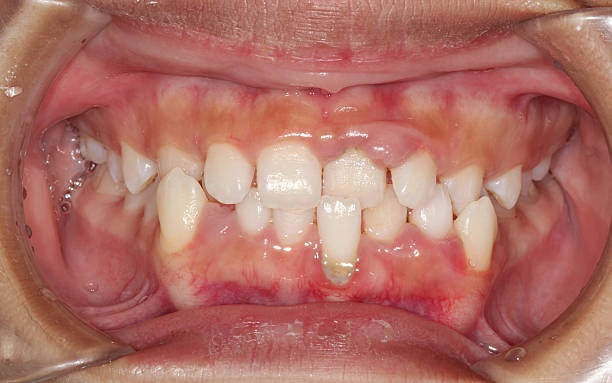Gingivitis: (306, 275, 460, 319), (197, 268, 289, 305), (369, 83, 412, 114), (432, 84, 459, 120)
